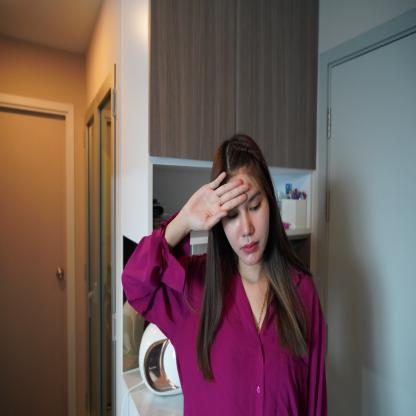Sick: (162, 171, 262, 234)
